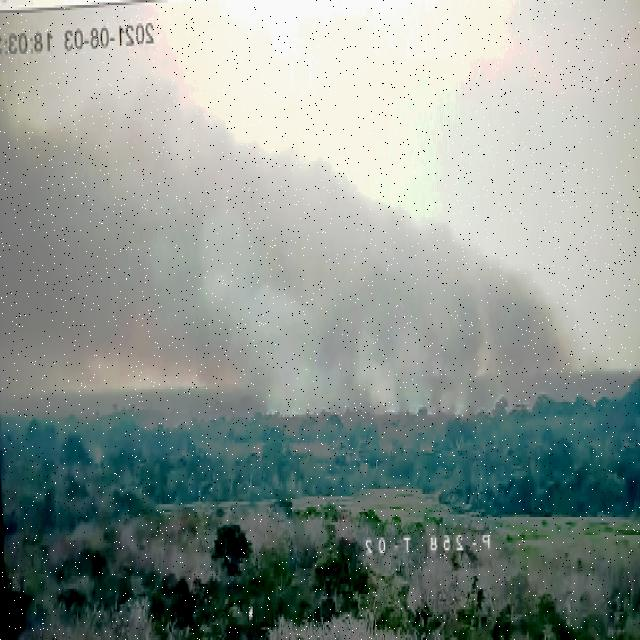asap: (3, 68, 597, 429)
